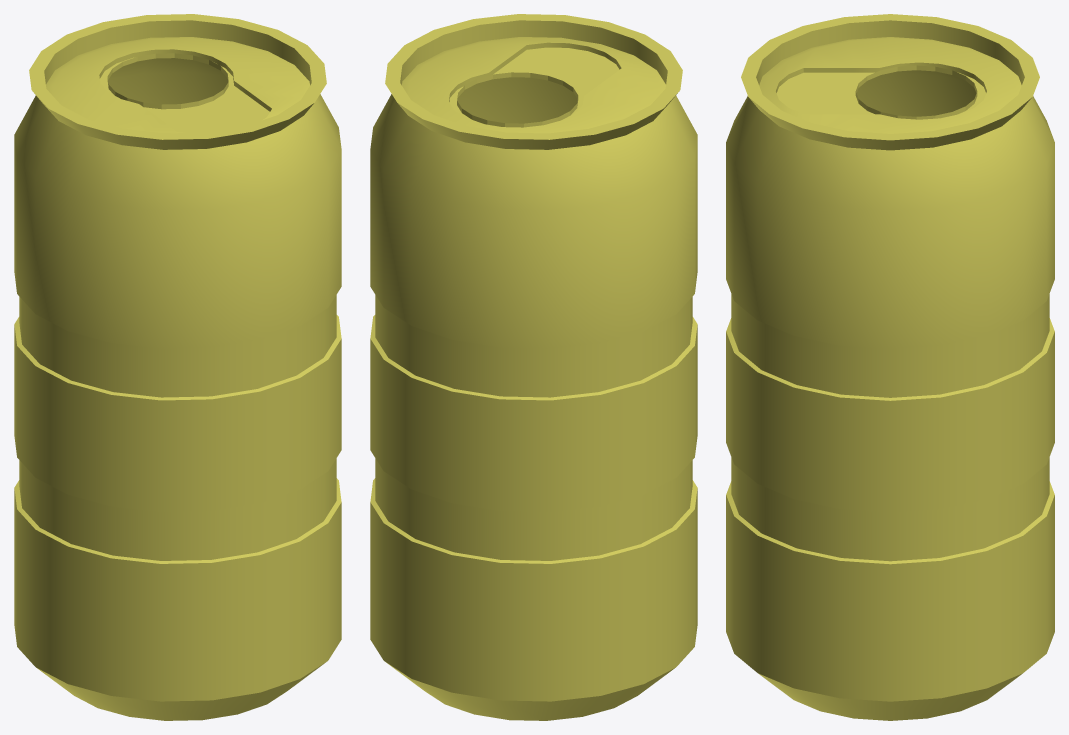
File: EnergyDrink.fbx
The picture shows the model from 3 angles, left to right: view 1: azimuth 30°, elevation 25°; view 2: azimuth 150°, elevation 25°; view 3: azimuth 270°, elevation 25°; orthographic projection.
Parts seen in each view (by area): view 1: Cylinder.001; view 2: Cylinder.001; view 3: Cylinder.001.
Part boxes in pixels (<box>): Cylinder.001: <box>14,14,341,720</box>; Cylinder.001: <box>370,14,697,720</box>; Cylinder.001: <box>726,14,1054,720</box>.
Bounding box in the file's own units: 200 × 200 × 398.
